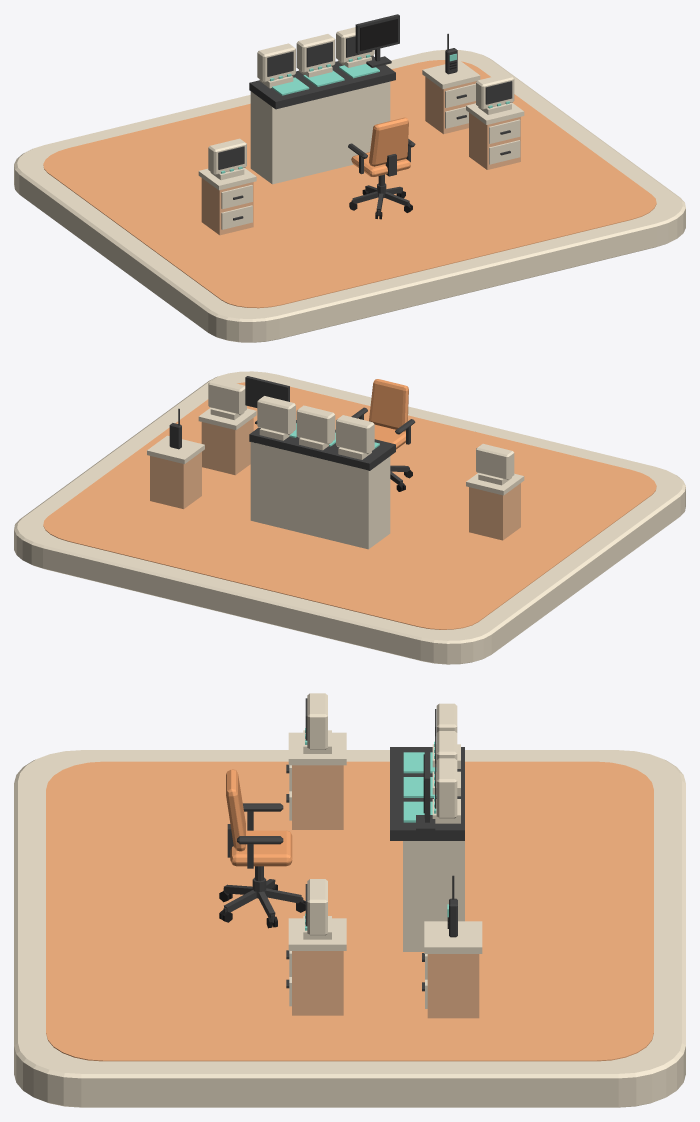
3 views of the same model, one above another, from view 1: azimuth 30°, elevation 25°; view 2: azimuth 150°, elevation 25°; view 3: azimuth 270°, elevation 25° (orthographic). The views are drawn at different scales.
Visible parts, largest first — view 1: COM-02 Floor Surface, COM-01 Rounded Base Direct, Console, COM-04_Chair_blender_direct, Panel, Frame, Body, Body.001, Body.002, Top.002, Housing.001, Housing (+13 smaller); view 2: COM-02 Floor Surface, COM-01 Rounded Base Direct, Console, COM-04_Chair_blender_direct, Body, Body.002, Body.001, Panel, Housing.001, Housing, Housing.002, Housing.003 (+5 smaller); view 3: COM-02 Floor Surface, COM-01 Rounded Base Direct, COM-04_Chair_blender_direct, Console, Body.002, Body, Body.001, Panel, Top.002, Top, Top.001, Housing.002 (+3 smaller).
Part boxes in pixels (x1,y1,x2,y2): COM-02 Floor Surface: (43,60,656,308); COM-01 Rounded Base Direct: (14,49,685,342); Console: (250,81,390,184); COM-04_Chair_blender_direct: (348,117,415,219); Panel: (249,56,395,109); Frame: (355,14,399,67); Body: (201,178,253,235); Body.001: (469,112,520,169); Body.002: (425,77,476,134); Top.002: (422,60,480,88); Housing.001: (296,34,335,72); Housing: (257,43,295,82); COM-02 Floor Surface: (43,382,656,629); COM-01 Rounded Base Direct: (14,371,685,664); Console: (250,442,390,549); COM-04_Chair_blender_direct: (351,379,415,491); Body: (469,483,520,540); Body.002: (150,452,201,509); Body.001: (201,418,253,475); Panel: (249,420,395,470); Housing.001: (296,405,335,444); Housing: (336,415,374,454); Housing.002: (257,396,295,434); Housing.003: (476,443,514,479); COM-02 Floor Surface: (46,761,653,1061); COM-01 Rounded Base Direct: (14,750,685,1107); COM-04_Chair_blender_direct: (219,769,305,928); Console: (403,841,464,951); Body.002: (427,954,479,1018); Body: (292,765,343,829); Body.001: (292,951,343,1015); Panel: (390,747,464,840); Top.002: (424,921,482,953); Top: (288,732,346,765); Top.001: (288,918,346,950); Housing.002: (436,758,457,818).
Bounding box in the file's own units: 6 × 1.88 × 5.2.
Materials: 1 (1 with a texture image).
